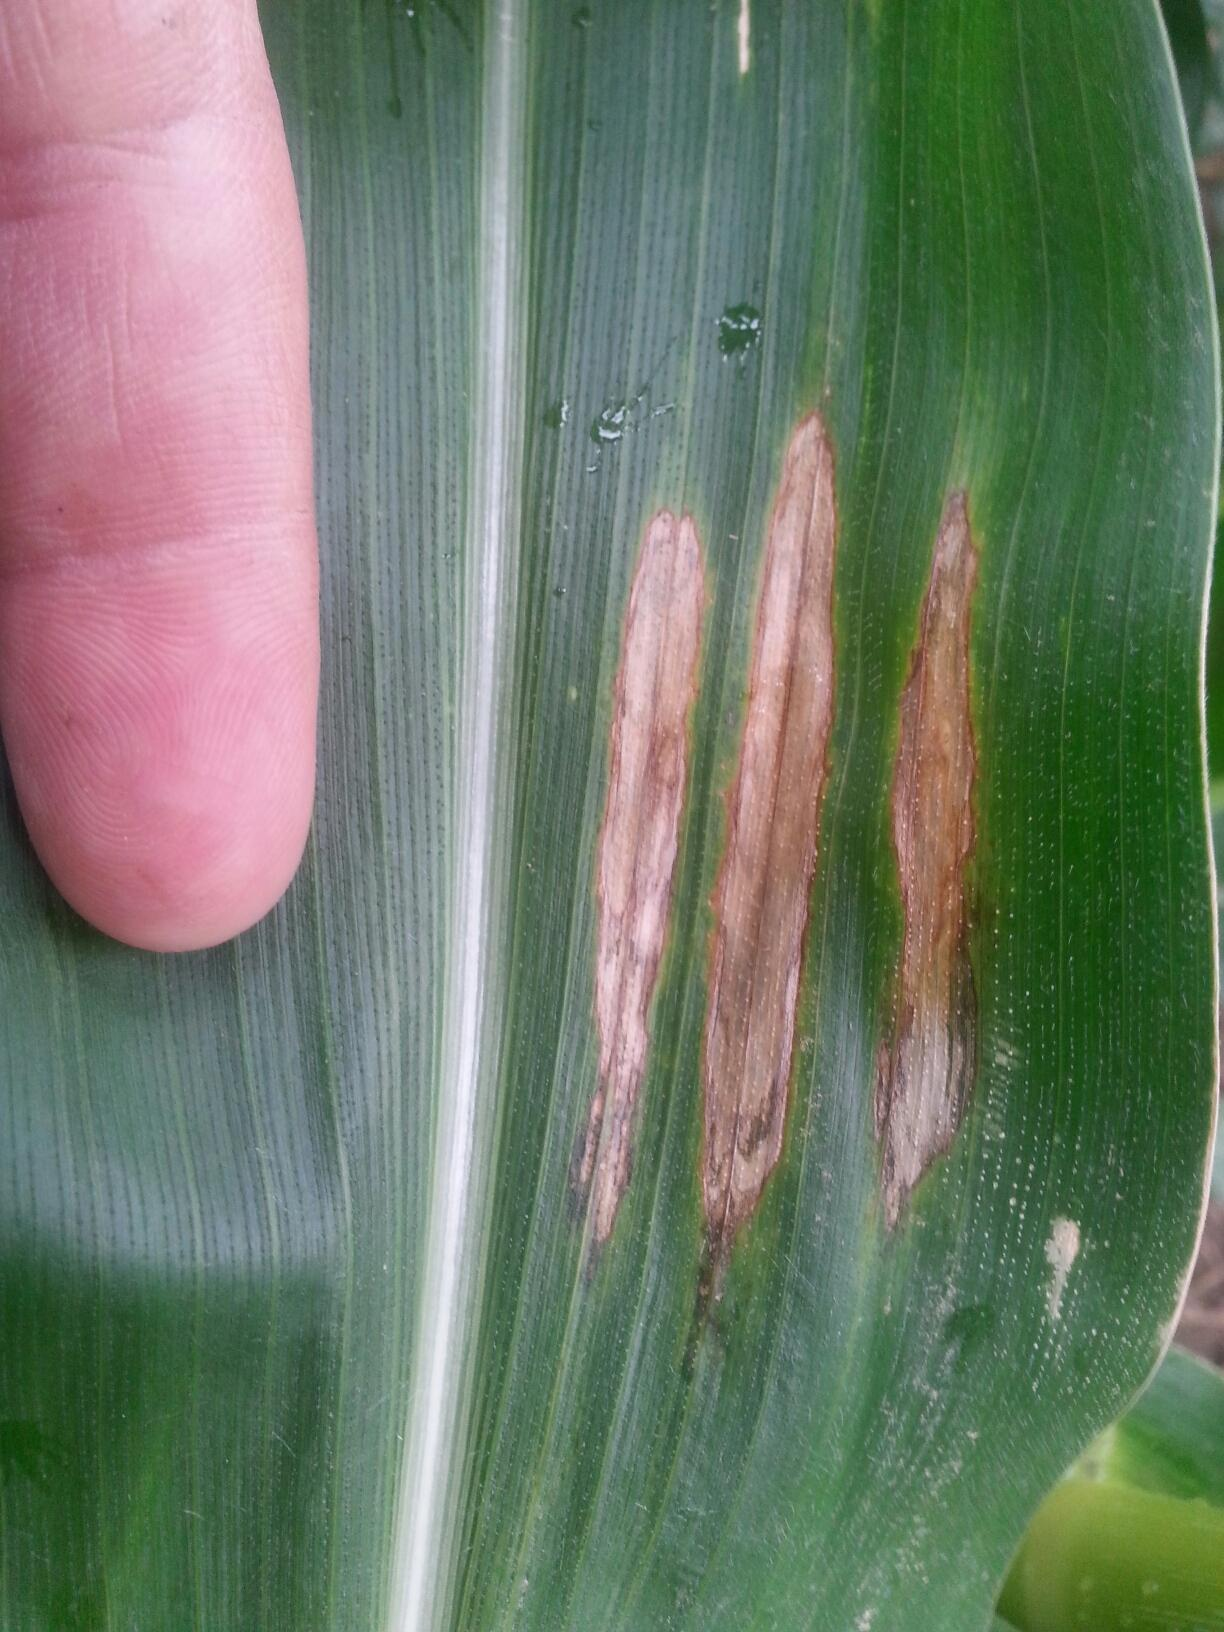Corn leaf blight: (346, 5, 1212, 1632)
